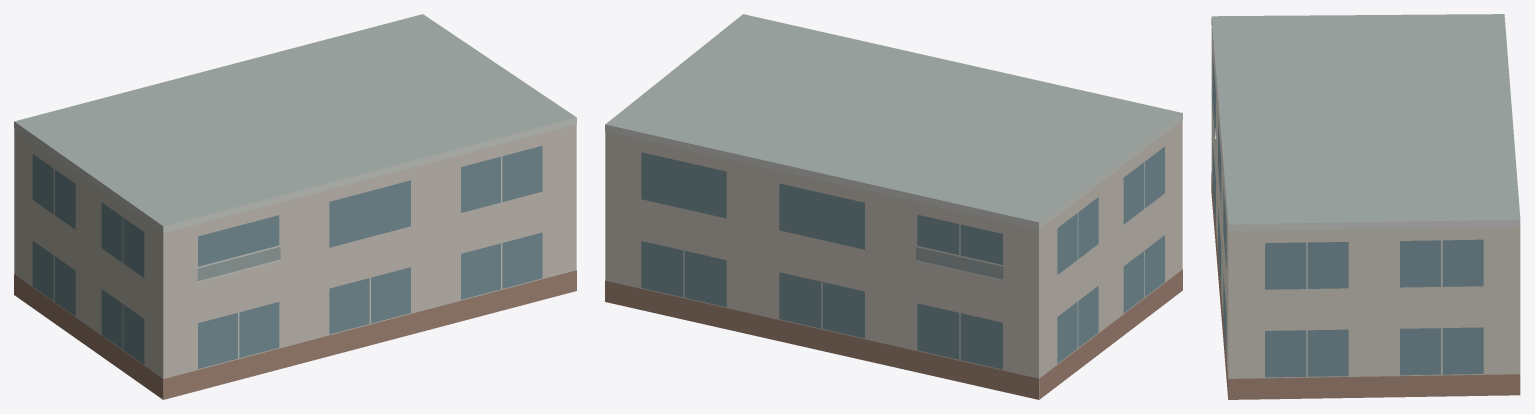
The model's file is survey-upis-32836839.glb.
The picture shows the model from 3 angles, left to right: view 1: azimuth 30°, elevation 25°; view 2: azimuth 150°, elevation 25°; view 3: azimuth 270°, elevation 25°; orthographic projection. The views are drawn at different scales.
Visible parts, largest first — view 1: survey-upis-32836839.tmp; view 2: survey-upis-32836839.tmp; view 3: survey-upis-32836839.tmp.
Part boxes in pixels (bbox=[...]): survey-upis-32836839.tmp: bbox=[14, 14, 576, 399]; survey-upis-32836839.tmp: bbox=[605, 14, 1182, 399]; survey-upis-32836839.tmp: bbox=[1211, 14, 1520, 399].
Bounding box in the file's own units: 15.68 × 6.1 × 9.74.
